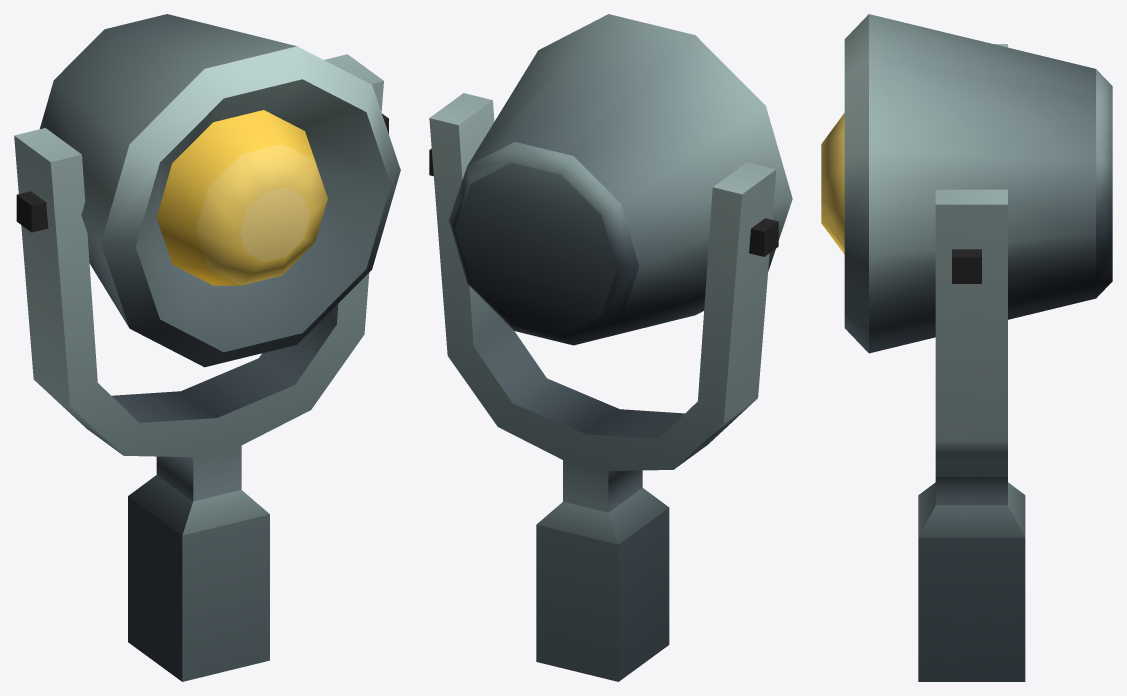
The model's file is spotlight.fbx.
3 views of the same model, side by side, from view 1: azimuth 30°, elevation 25°; view 2: azimuth 150°, elevation 25°; view 3: azimuth 270°, elevation 25° (orthographic). The views are drawn at different scales.
Parts seen in each view (by area): view 1: spotlight_lamp, spotlight; view 2: spotlight_lamp, spotlight; view 3: spotlight_lamp, spotlight.
Boxes of the visible parts, x1,y1,x2,y2 form: spotlight_lamp: (16,14,400,367); spotlight: (14,54,383,681); spotlight_lamp: (429,14,792,345); spotlight: (429,93,776,681); spotlight_lamp: (821,14,1112,353); spotlight: (918,44,1025,681).
Size of the model in its own units: 155 by 262 by 111.
